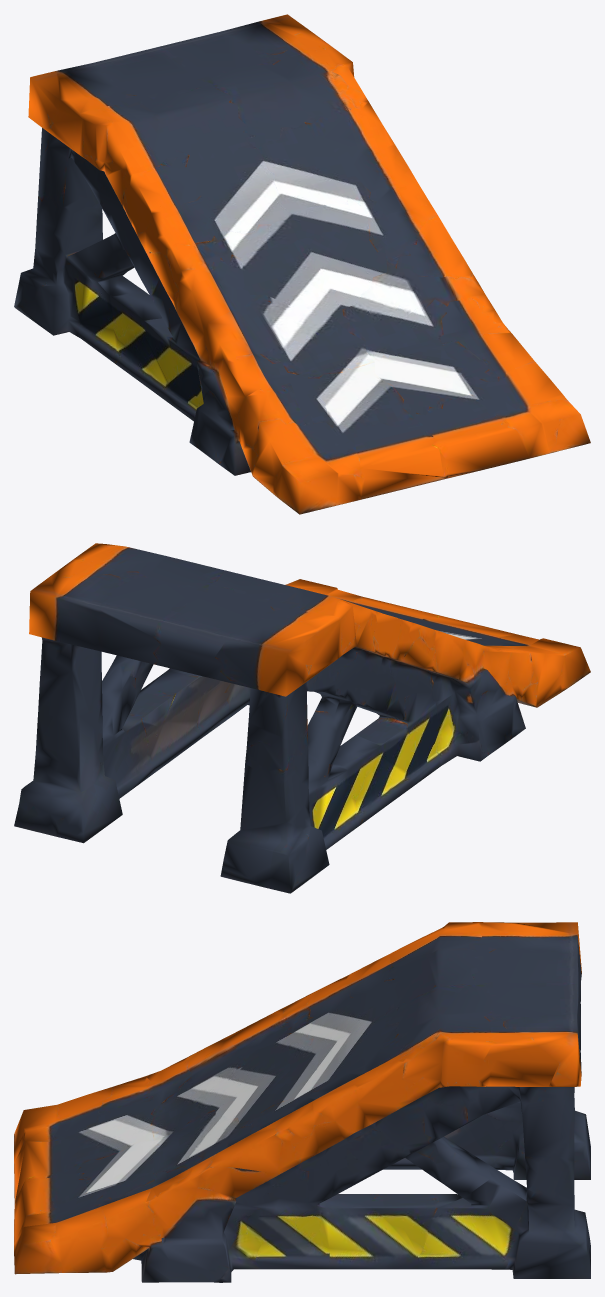
File: rampa.glb
The picture shows the model from 3 angles, top to bottom: view 1: azimuth 30°, elevation 25°; view 2: azimuth 150°, elevation 25°; view 3: azimuth 270°, elevation 25°; orthographic projection.
Size of the model in its own units: 1.09 by 0.8331 by 1.9.
1 material, 1 textured.
